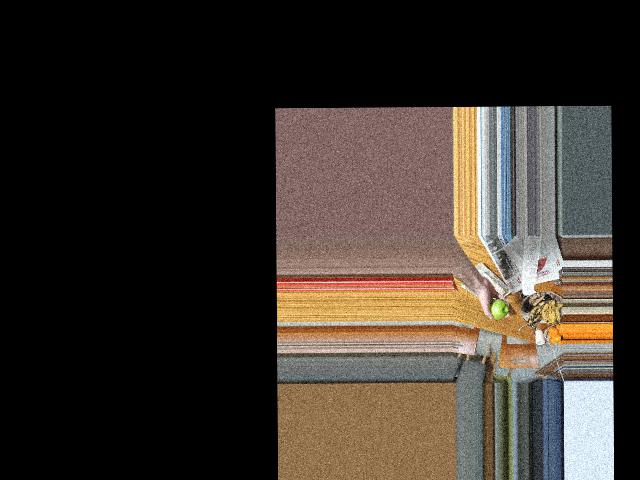apple: (486, 297, 507, 320)
